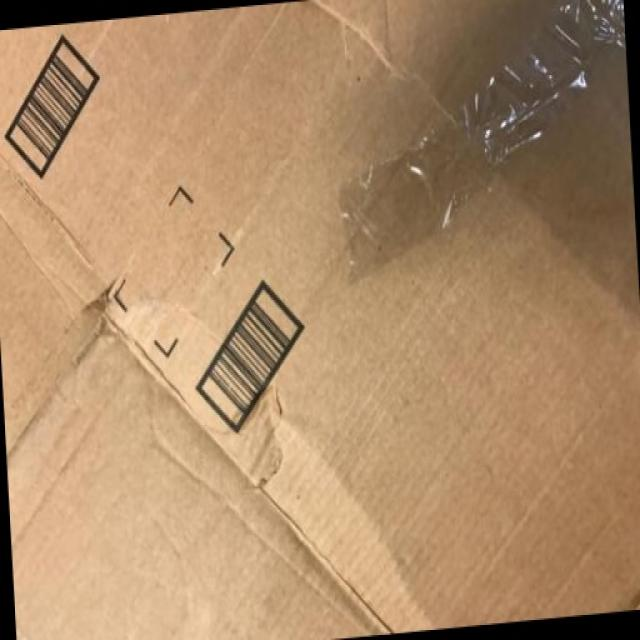carton: (123, 125, 514, 482)
